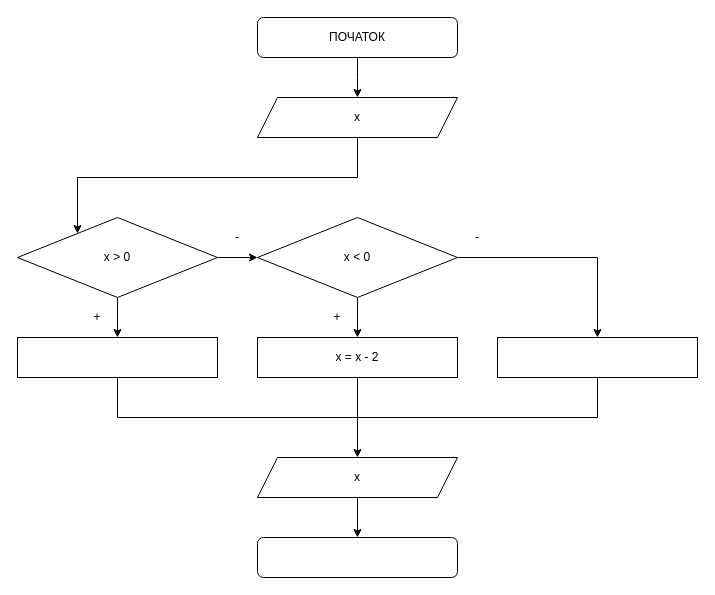
Image size: 715x595. Some labels were removed from this diagram. Each missing label, with the centre of its shape:
x = 10: [597,357]
x = x + 1: [117,357]
КІНЕЦЬ: [357,557]
